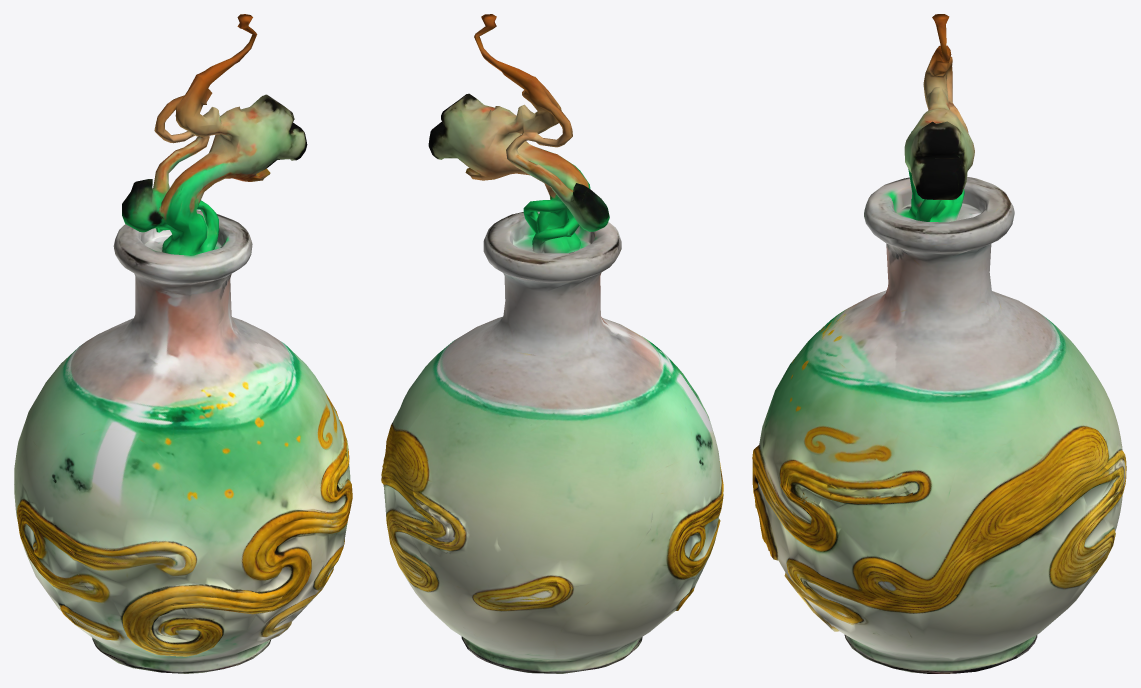
The model's file is 九曲玉露.glb.
3 views of the same model, side by side, from view 1: azimuth 30°, elevation 25°; view 2: azimuth 150°, elevation 25°; view 3: azimuth 270°, elevation 25° (orthographic). The views are drawn at different scales.
Visible parts, largest first — view 1: node_0; view 2: node_0; view 3: node_0.
Boxes of the visible parts, <box> form: node_0: <box>14,14,352,673</box>; node_0: <box>381,14,723,673</box>; node_0: <box>752,14,1126,673</box>.
Bounding box in the file's own units: 0.5886 × 1.16 × 0.6036.
Materials: 1 (1 with a texture image).
